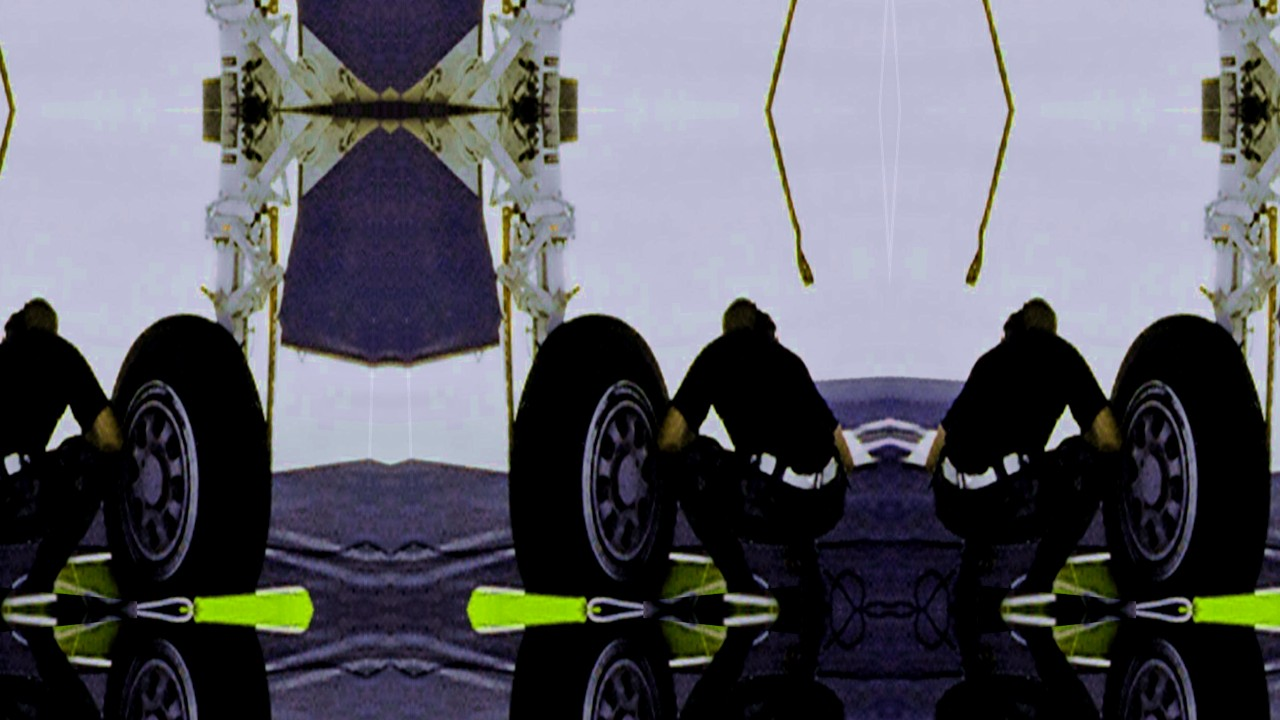chock: (43, 547, 179, 610), (601, 547, 737, 610), (1043, 547, 1179, 610), (43, 610, 179, 673), (601, 610, 737, 673), (1043, 610, 1179, 673), (165, 573, 330, 610), (450, 573, 615, 610), (165, 610, 330, 647), (450, 610, 615, 647), (1165, 573, 1280, 610), (1165, 610, 1280, 647)
wheel: (89, 309, 285, 610), (495, 309, 691, 610), (1089, 309, 1280, 610), (89, 610, 285, 720), (495, 610, 691, 720), (1089, 610, 1280, 720)
